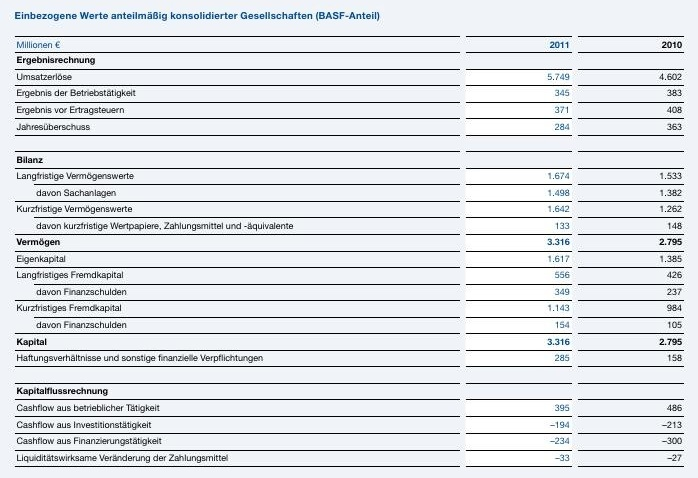table: (0, 0, 698, 478)
